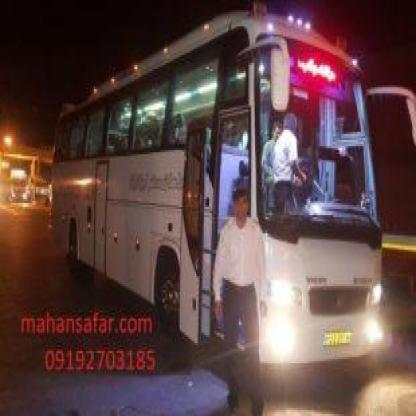Bus: (50, 30, 390, 378)
